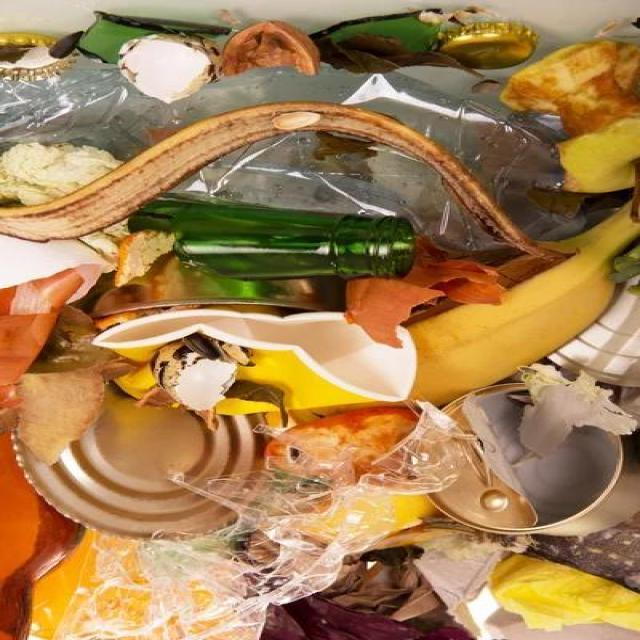Garbage: (2, 0, 640, 640)
Glass_bottle: (129, 201, 416, 280)
contaminated_waste: (171, 133, 518, 261), (15, 386, 263, 539), (428, 383, 639, 535)
